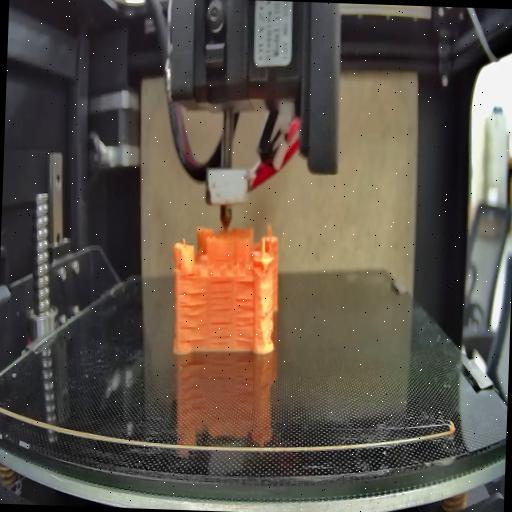cracks: (206, 276, 235, 346), (178, 290, 208, 343), (232, 294, 256, 345), (234, 276, 256, 290)
